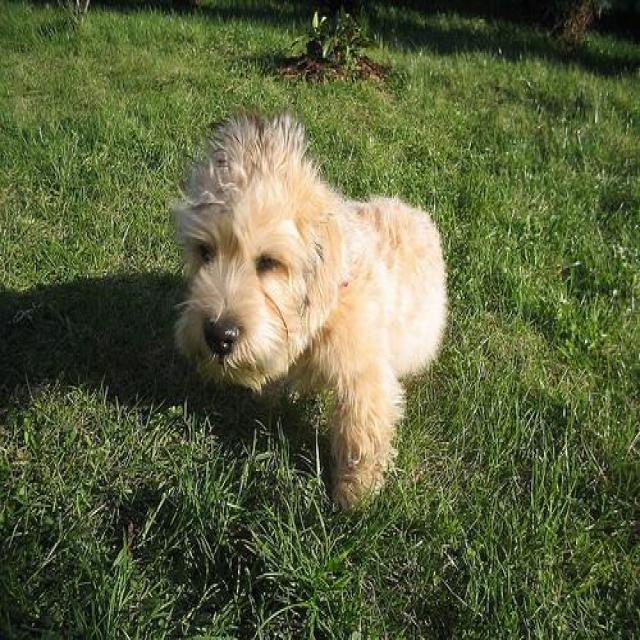dandie_dinmont: (168, 111, 448, 514)
